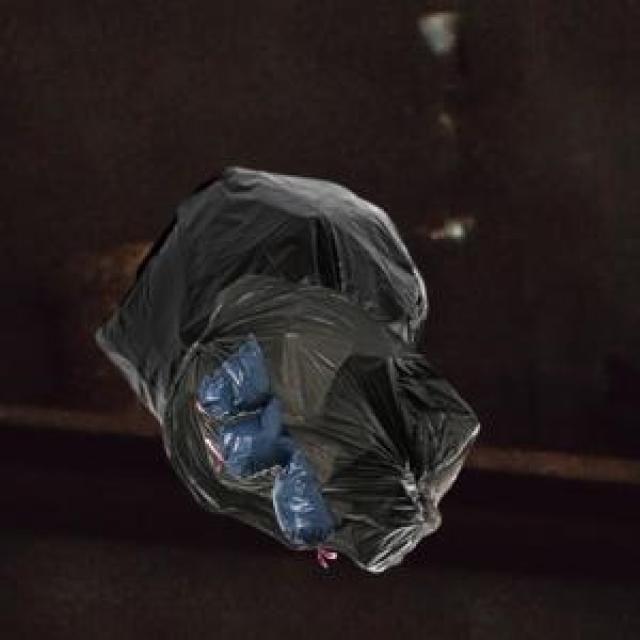waste: (98, 169, 479, 572)
